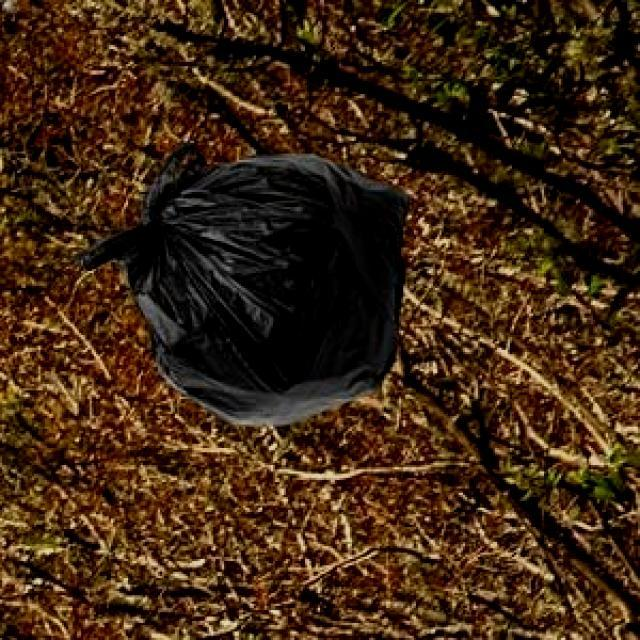Trashbag: (77, 127, 412, 429)
